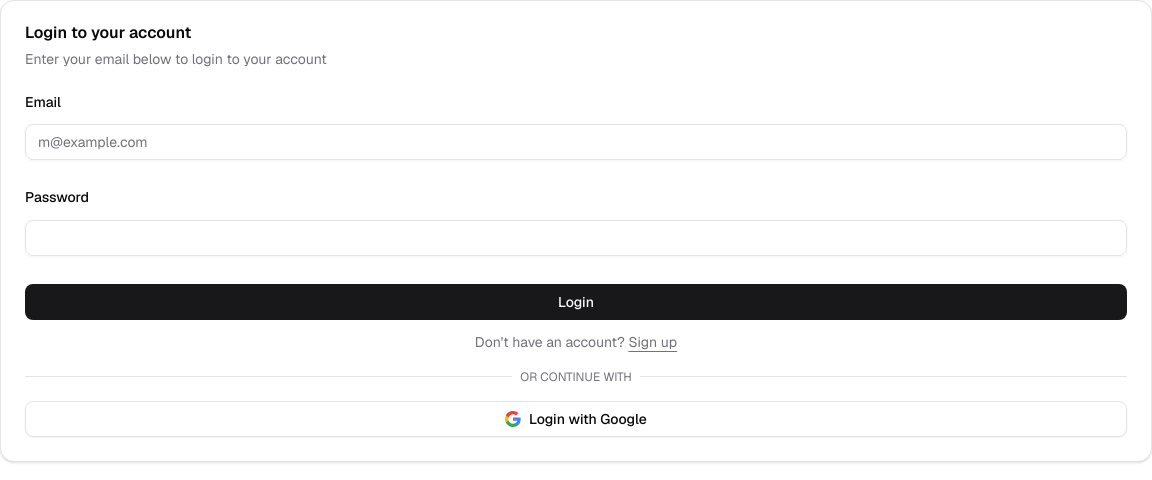
Test: LoginForm › should disable button while submitting
The image size is (1152, 480).
Type "test@example.com" into the field with test id "email-input" at {"x": 576, "y": 142}, box [25,124,1127,160]
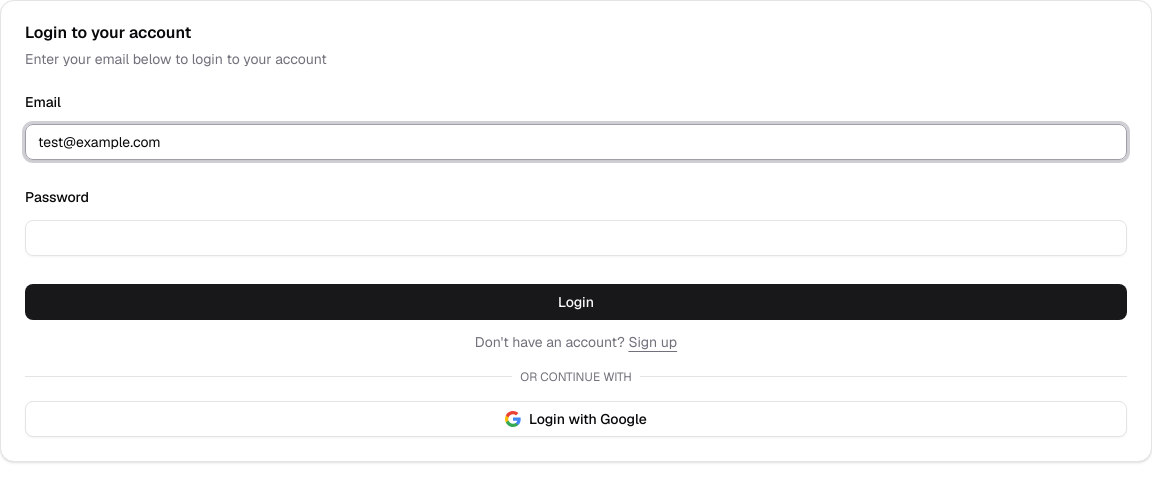
Type "password123" into the password field with test id "password-input" at {"x": 576, "y": 238}, box [25,220,1127,256]
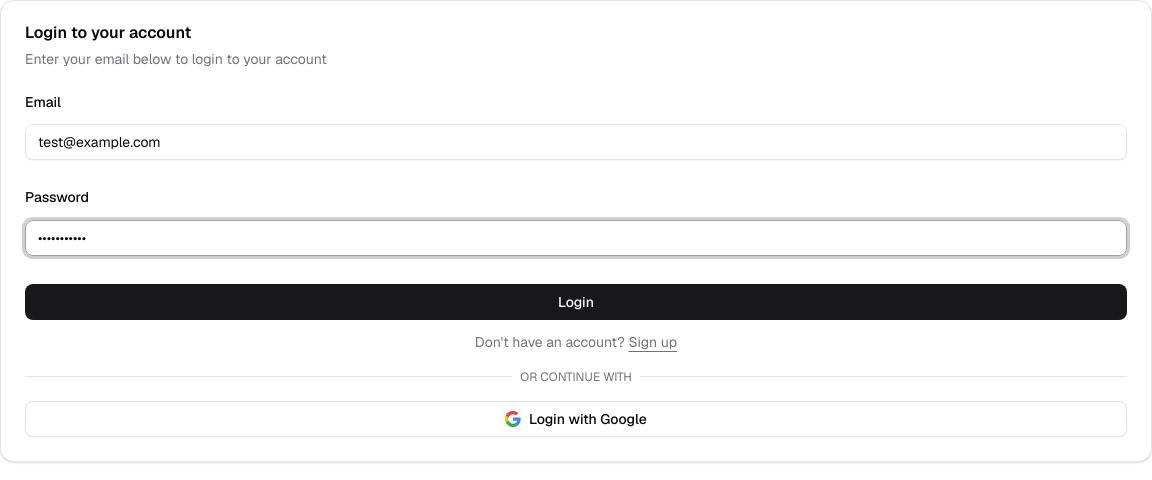
Click the button with test id "login-button" at {"x": 576, "y": 302}, box [25,284,1127,320]
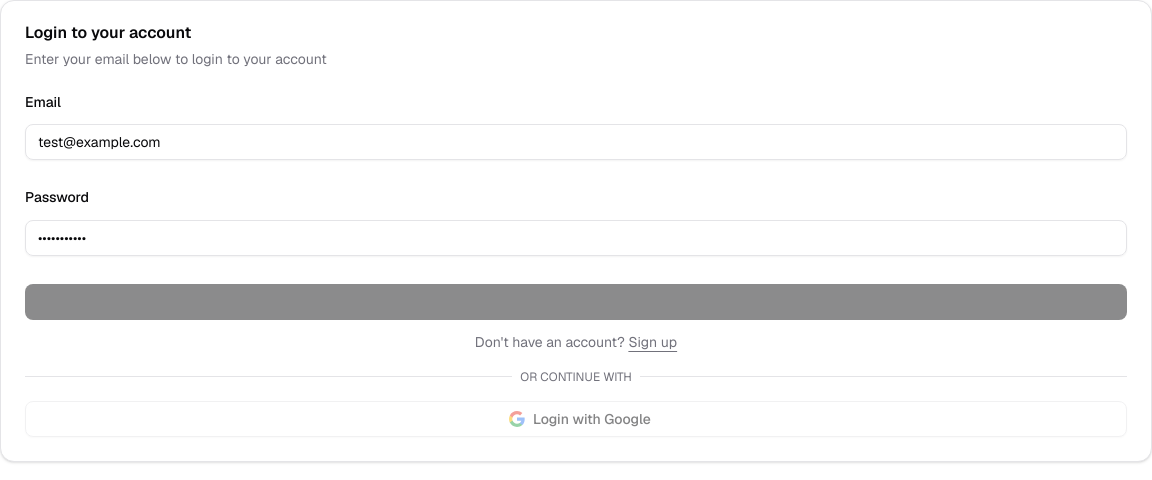
Expected: the button with test id "login-button" is disabled, [25,284,1127,320]
